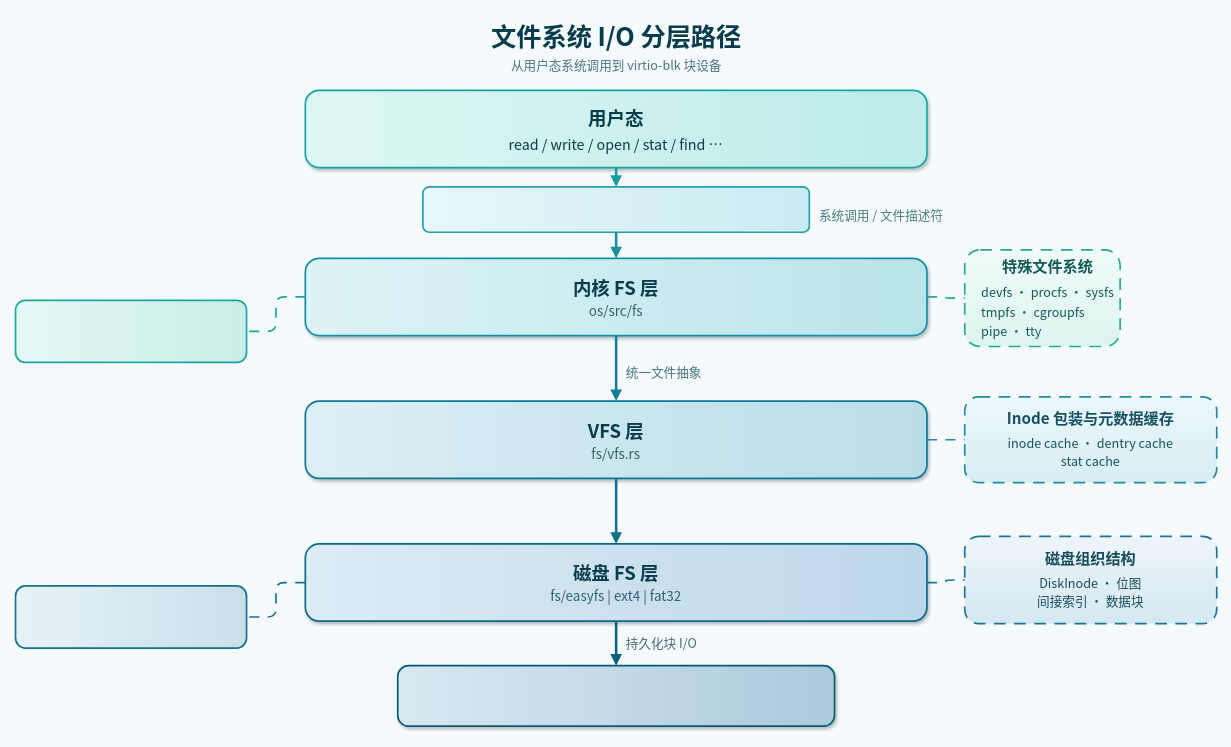
Image size: 1231x747. Some labels were removed from this diagram. The shapes that lost their labels are listed below. From the top down, each one's centre as x and y in pixels, then its label:
At [616,209]: "fd 表 ── File trait".
At [130,331]: "Page Cache 文件数据页（4 KB）".
At [130,616]: "Block Cache 磁盘块（512 B）".
At [616,696]: "块设备 virtio-blk".
